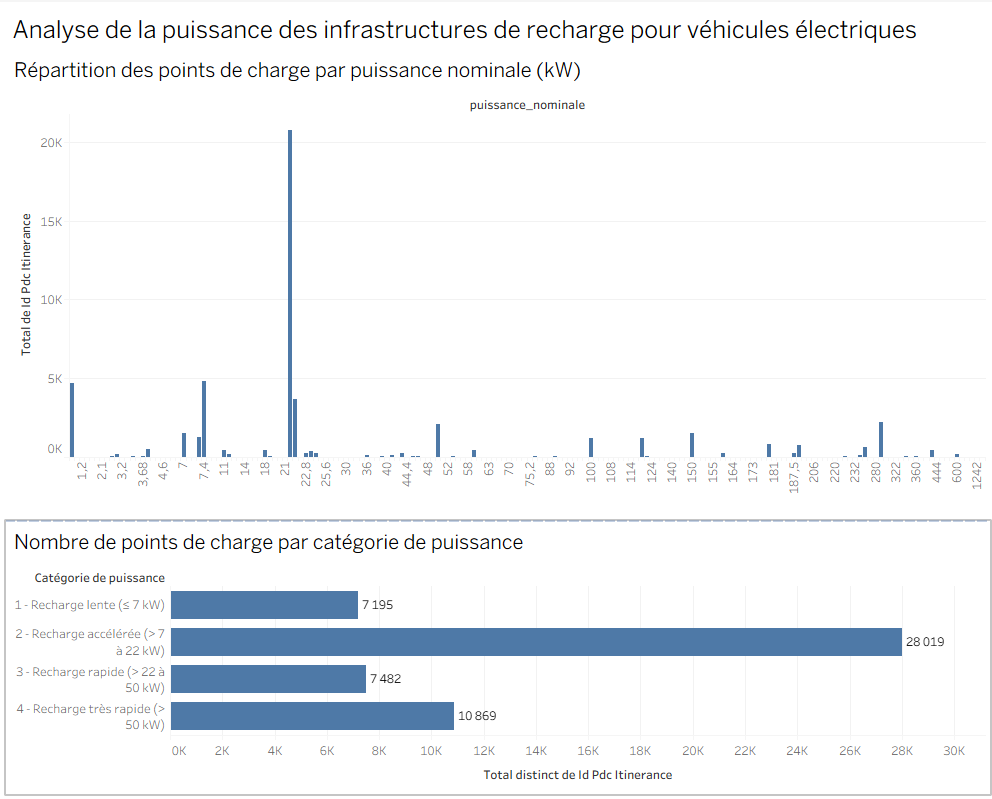

Layout of this report page (visuals, bound fields, positions):
{"tool":"tableau","page":{"name":"Analyse des puissances de recharge","canvas":[1000,800],"ordinal":1},"visuals":[{"type":"title","box":[8,8,984,39]},{"type":"worksheet","title":"Répartition des puissances","mark":"Bar","rows":["id_pdc_itinerance"],"cols":["puissance_nominale"],"box":[8,47,984,472.3]},{"type":"worksheet","title":"Catégorie de puissance","mark":"Bar","rows":["Calculation_1217226776002560"],"cols":["id_pdc_itinerance"],"box":[8,519.3,984,272.7]}]}

Visuals, with their boxes in screenshot pixels (x1, y1, x2, y2), scaled from the page's 1000x800 canvas onto the 992x799 screenshot:
title: (8, 8, 984, 47)
"Répartition des puissances" worksheet (Bar marks): (8, 47, 984, 519)
"Catégorie de puissance" worksheet (Bar marks): (8, 519, 984, 791)
